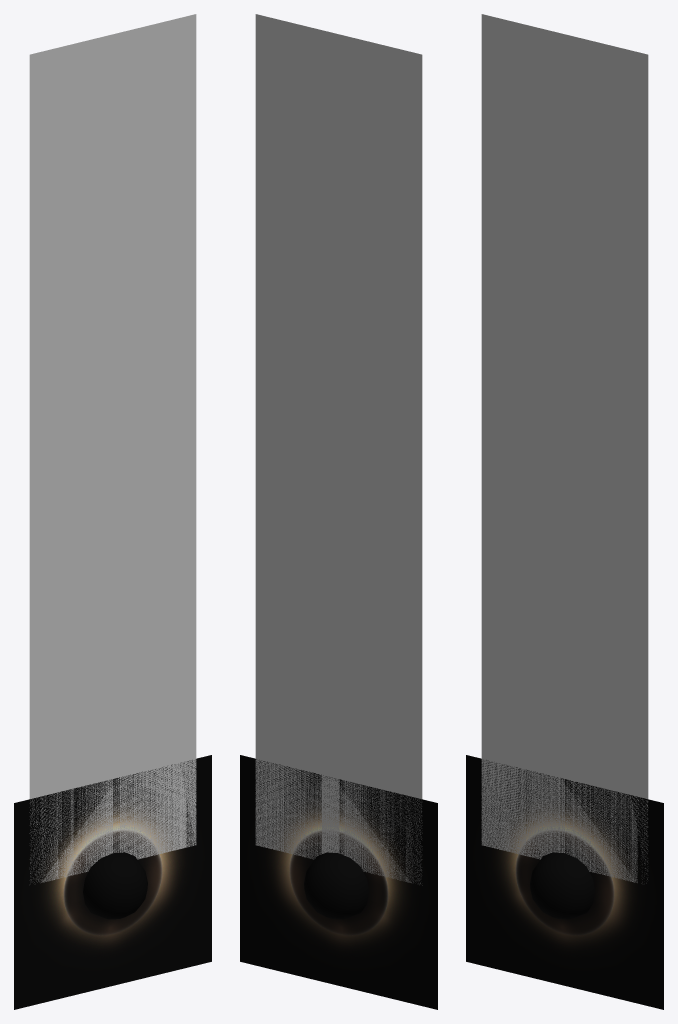
Rendered from collezionabile.fbx.
3 views of the same model, side by side, from view 1: azimuth 30°, elevation 25°; view 2: azimuth 150°, elevation 25°; view 3: azimuth 330°, elevation 25° (orthographic).
Parts seen in each view (by area): view 1: hiligther_verticale, ring, collezionabile; view 2: hiligther_verticale, ring, collezionabile; view 3: hiligther_verticale, ring, collezionabile.
Boxes of the visible parts, x1,y1,x2,y2 form: hiligther_verticale: (29, 14, 196, 882); ring: (14, 755, 211, 1009); collezionabile: (83, 852, 147, 919); hiligther_verticale: (255, 14, 422, 885); ring: (240, 755, 437, 1009); collezionabile: (304, 852, 368, 919); hiligther_verticale: (481, 14, 648, 883); ring: (466, 755, 663, 1009); collezionabile: (530, 852, 594, 919).
Size of what is drawn, in the model's own units: 2345 by 10785 by 713.
